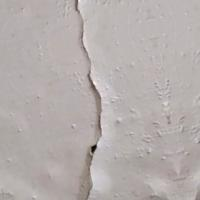crack: (58, 0, 123, 199)
